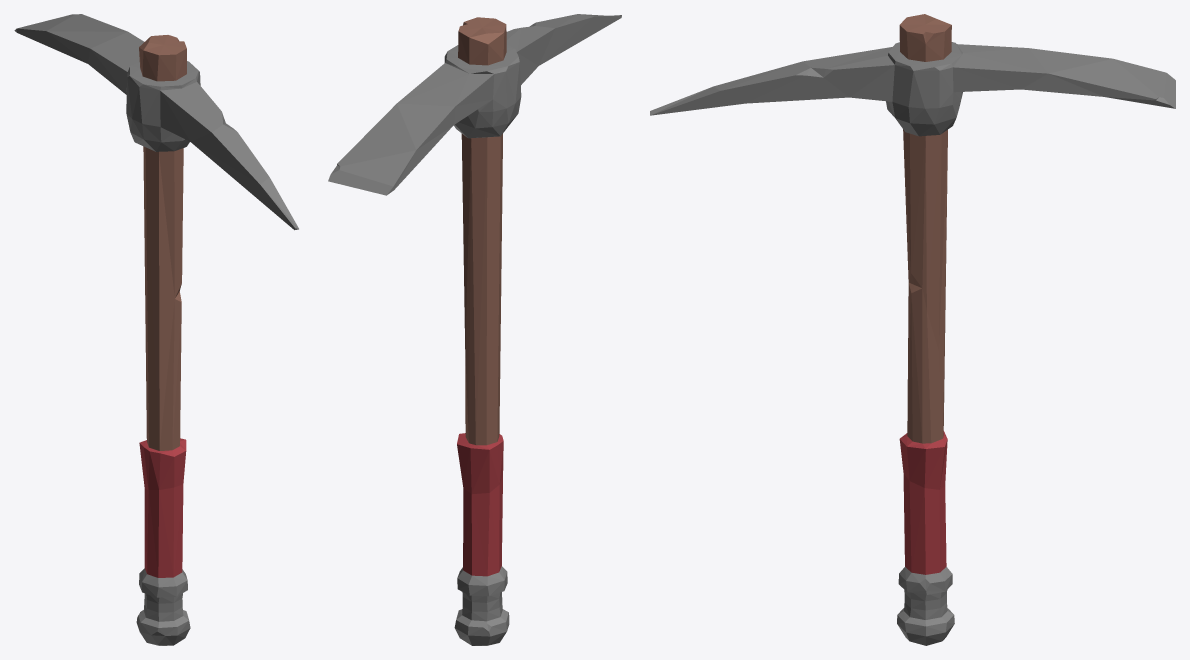
The model's file is SM_LP_Pickaxe.fbx.
3 views of the same model, side by side, from view 1: azimuth 30°, elevation 25°; view 2: azimuth 150°, elevation 25°; view 3: azimuth 270°, elevation 25° (orthographic). The views are drawn at different scales.
Parts seen in each view (by area): view 1: SM_LP_Pickaxe; view 2: SM_LP_Pickaxe; view 3: SM_LP_Pickaxe.
Part boxes in pixels (x1,y1,x2,y2): SM_LP_Pickaxe: (14, 14, 298, 645); SM_LP_Pickaxe: (328, 14, 621, 645); SM_LP_Pickaxe: (650, 14, 1175, 645).
Bounding box in the file's own units: 0.1205 × 1.09 × 0.8346.
